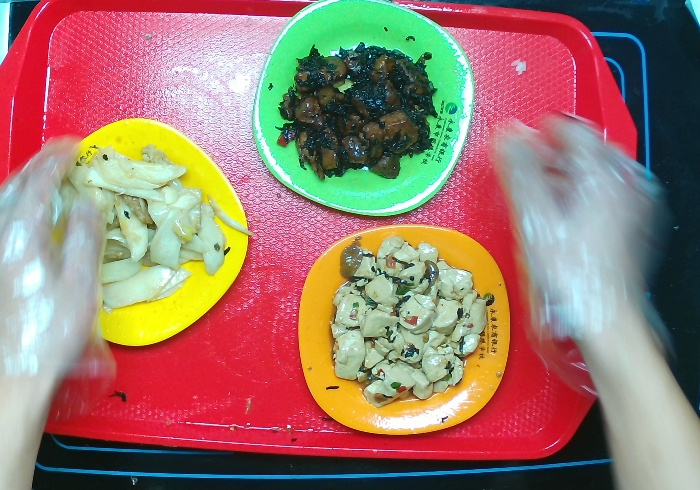YKMZ-Huang_Se_Fang_Die: (27, 115, 263, 352)
YKMZ-Ju_Se_Fang_Die: (288, 220, 524, 457)
YKMZ-Lv_Se_Fang_Die: (247, 1, 480, 226)
